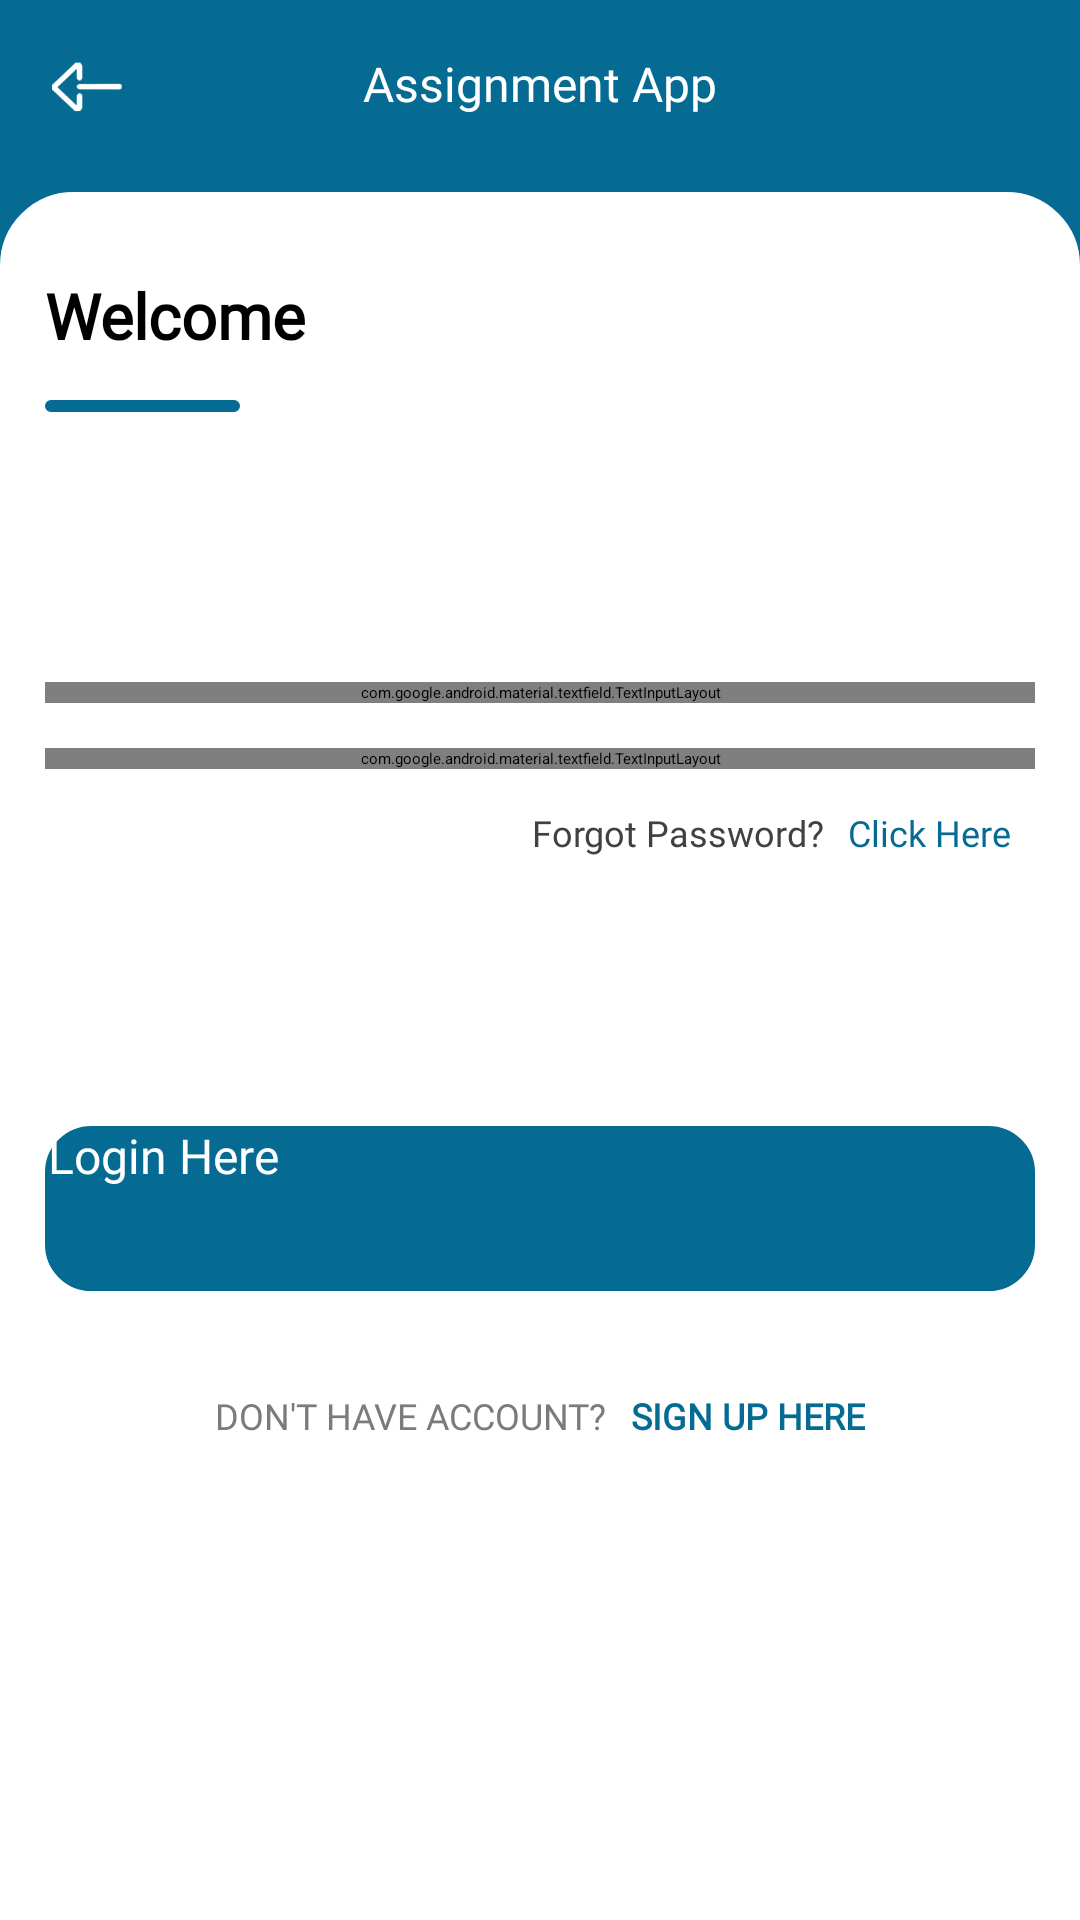

Icon bounding boxes for this 1080 × 1920 phone screenshot, format bbox=(x1, y1, x2, y2):
left: bbox=(52, 62, 122, 111)
